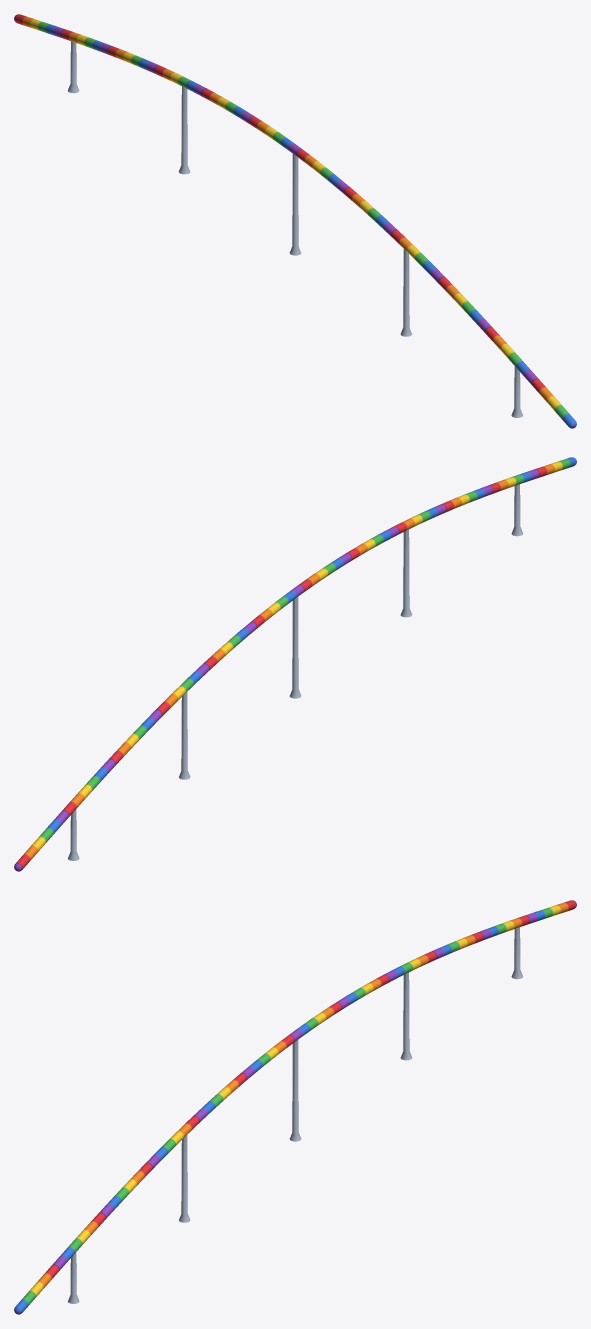
File: SM_Rail_Rainbow.glb
3 views of the same model, one above another, from view 1: azimuth 30°, elevation 25°; view 2: azimuth 150°, elevation 25°; view 3: azimuth 330°, elevation 25° (orthographic).
Parts seen in each view (by area): view 1: SM_Rail_Rainbow; view 2: SM_Rail_Rainbow; view 3: SM_Rail_Rainbow.
Boxes of the visible parts, box(x1,y1,x2,y2) form: SM_Rail_Rainbow: box(14, 14, 576, 428); SM_Rail_Rainbow: box(14, 457, 576, 871); SM_Rail_Rainbow: box(14, 900, 576, 1314).
Size of the model in its own units: 0.15 by 1.5 by 14.09.
2 materials, 1 textured.
